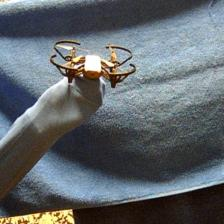drone: (49, 36, 137, 84)
